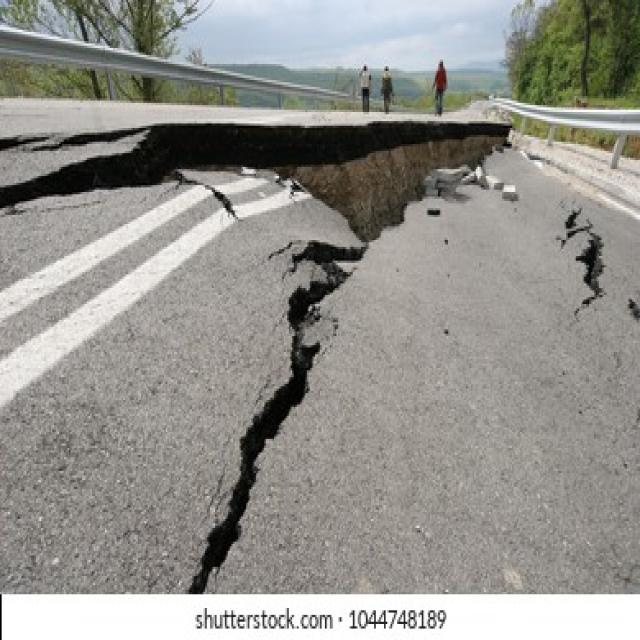road collapse: (98, 69, 614, 544)
